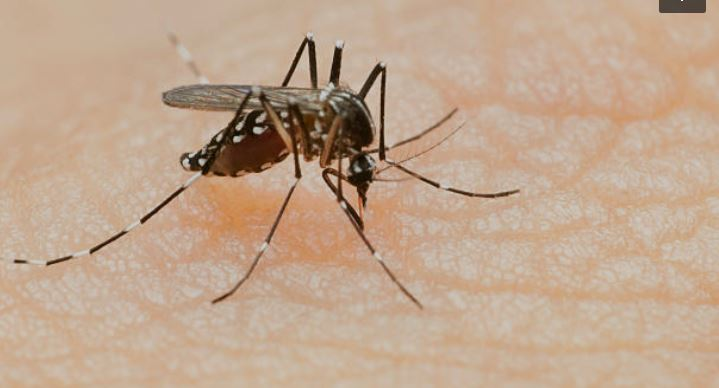dengue_mosquito: (159, 29, 427, 306)
